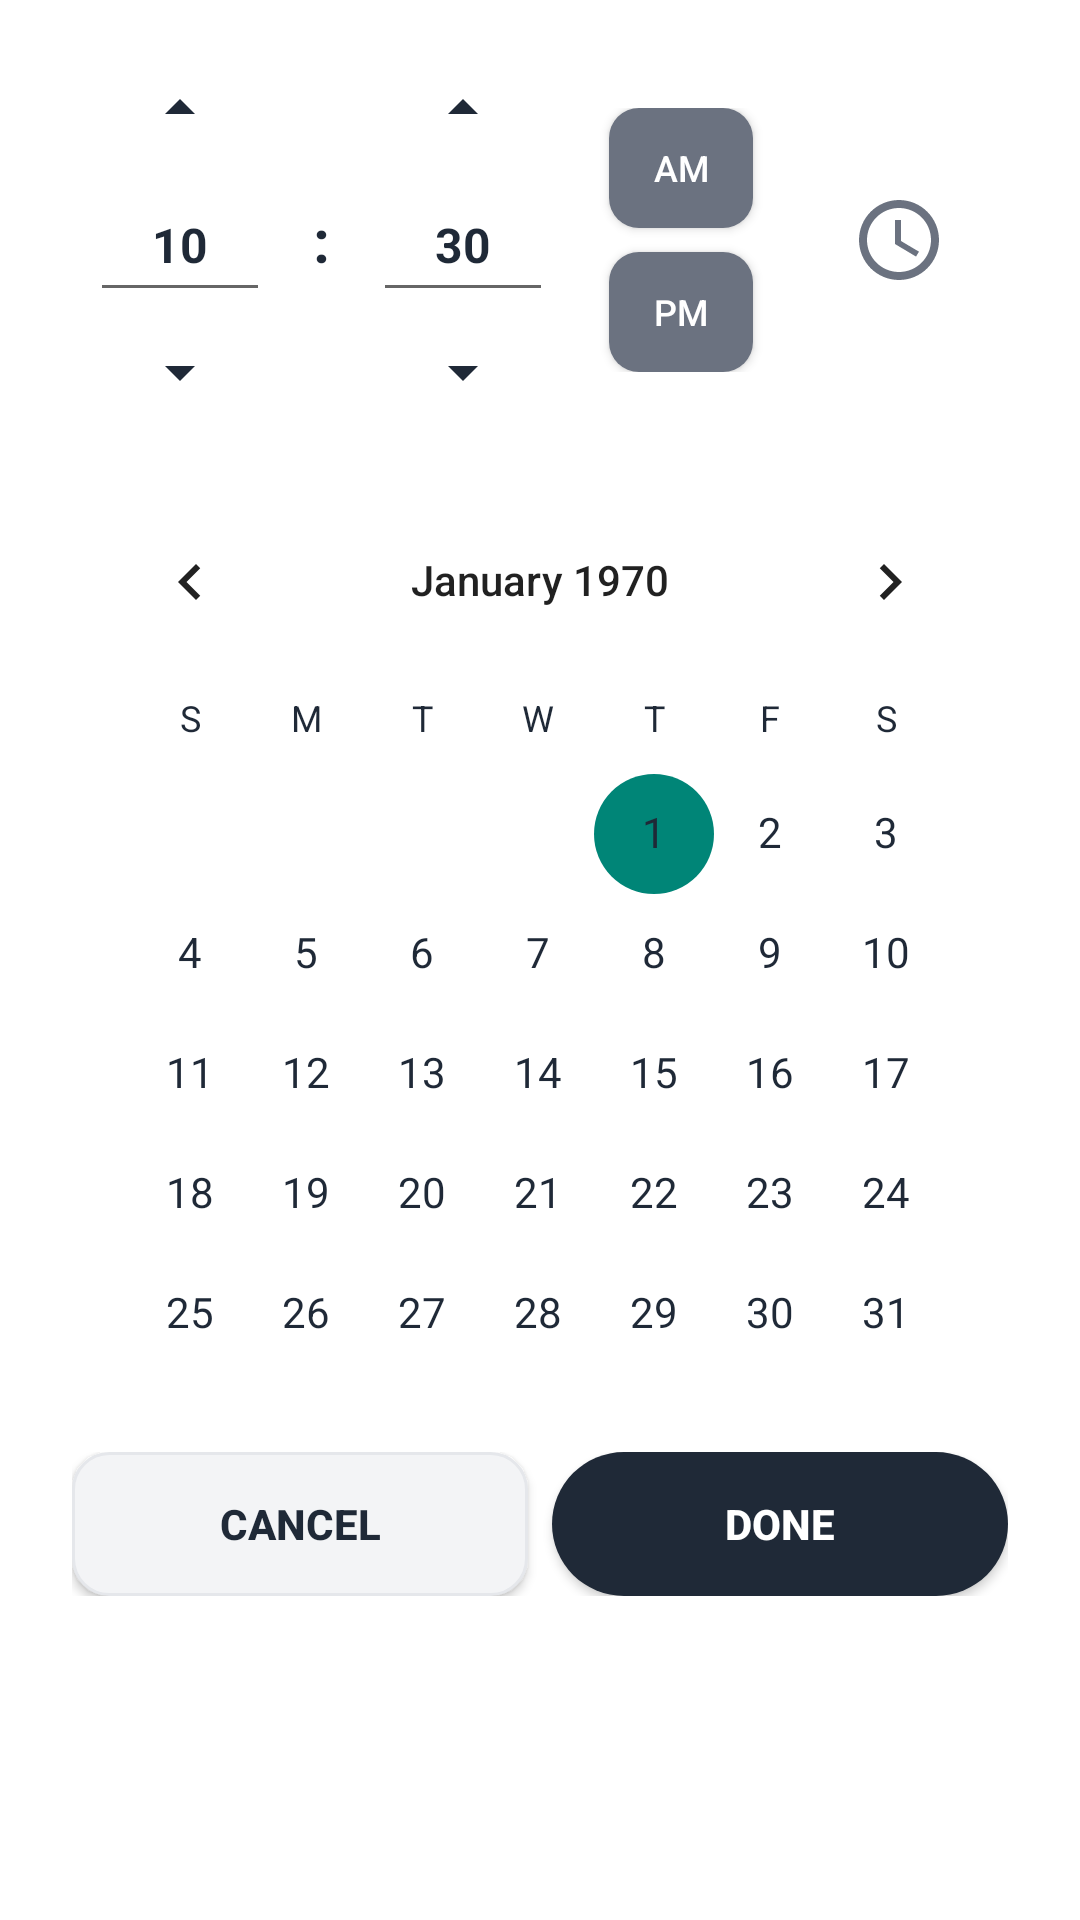

Icons on this 1080w x 1920h Android screen, each with the point to tap as (x,y):
Hour Down: (180,373)
Hour Up: (180,106)
Minute Down: (463,373)
Minute Up: (463,106)
